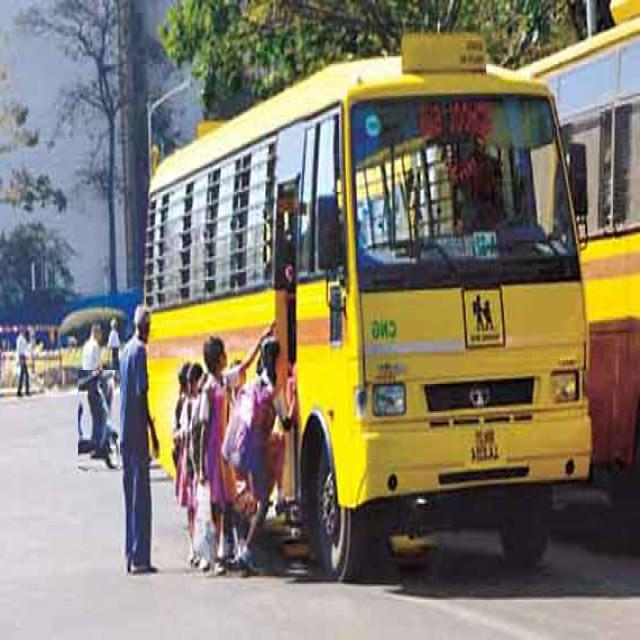bus: (146, 36, 590, 578), (521, 0, 640, 509)
motorcycle: (78, 371, 120, 469)
